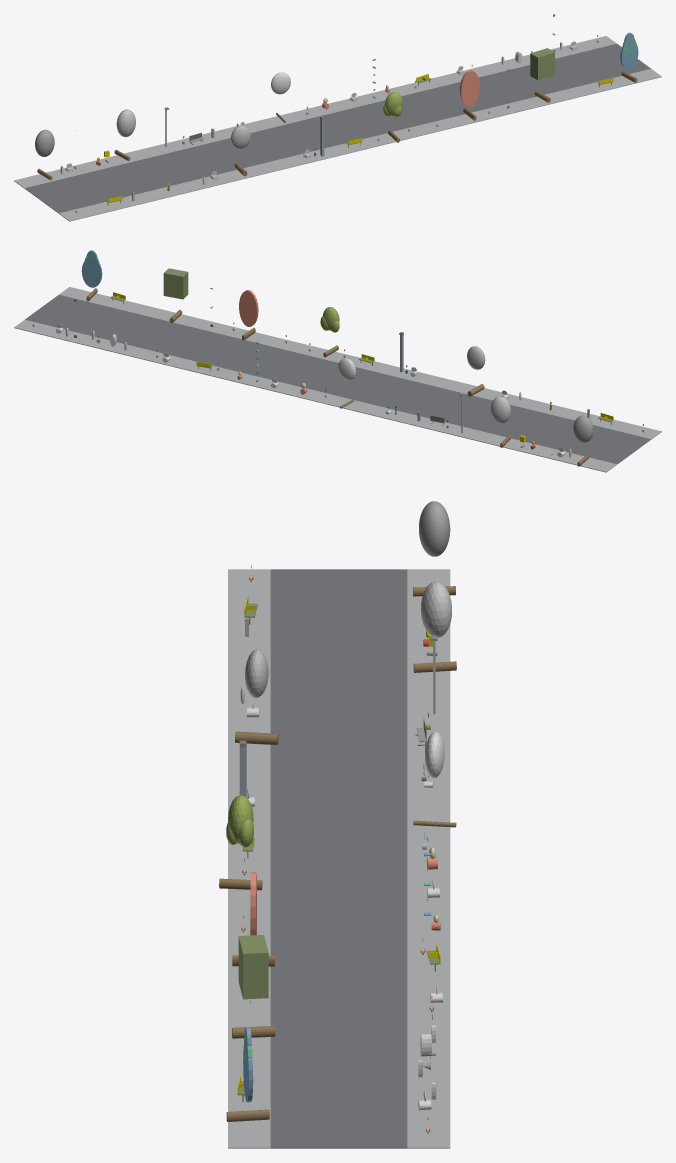
The picture shows the model from 3 angles, top to bottom: view 1: azimuth 30°, elevation 25°; view 2: azimuth 150°, elevation 25°; view 3: azimuth 270°, elevation 25°; orthographic projection. The views are drawn at different scales.
Parts seen in each view (by area): view 1: road_slab, sidewalk_left, sidewalk_right, inst_0024, inst_0023, inst_0025, inst_0019, inst_0018, inst_0020, inst_0022, inst_0021; view 2: road_slab, sidewalk_right, sidewalk_left, inst_0024, inst_0023, inst_0025, inst_0019, inst_0018, inst_0022, inst_0020, inst_0021; view 3: road_slab, sidewalk_right, sidewalk_left, inst_0024, inst_0019, inst_0018, inst_0022, inst_0020, inst_0025, inst_0021.
Boxes of the visible parts, left/top/right/bottom form: road_slab: left=25, top=44, right=650, bottom=213; sidewalk_left: left=59, top=69, right=661, bottom=221; sidewalk_right: left=14, top=36, right=616, bottom=188; inst_0024: left=530, top=48, right=554, bottom=102; inst_0023: left=460, top=70, right=479, bottom=120; inst_0025: left=620, top=32, right=638, bottom=82; inst_0019: left=114, top=109, right=135, bottom=161; inst_0018: left=35, top=129, right=54, bottom=180; inst_0020: left=231, top=125, right=250, bottom=176; inst_0022: left=383, top=92, right=402, bottom=142; inst_0021: left=271, top=72, right=290, bottom=122; road_slab: left=25, top=294, right=651, bottom=464; sidewalk_right: left=14, top=319, right=616, bottom=472; sidewalk_left: left=59, top=287, right=661, bottom=439; inst_0024: left=163, top=268, right=188, bottom=322; inst_0023: left=239, top=290, right=258, bottom=340; inst_0025: left=81, top=250, right=102, bottom=301; inst_0019: left=490, top=396, right=511, bottom=447; inst_0018: left=573, top=415, right=593, bottom=466; inst_0022: left=320, top=307, right=339, bottom=357; inst_0020: left=467, top=346, right=485, bottom=396; inst_0021: left=338, top=358, right=355, bottom=408; road_slab: left=270, top=569, right=407, bottom=1148; sidewalk_right: left=407, top=569, right=450, bottom=1148; sidewalk_left: left=228, top=569, right=270, bottom=1148; inst_0024: left=232, top=935, right=275, bottom=1038; inst_0019: left=413, top=581, right=456, bottom=672; inst_0018: left=413, top=501, right=455, bottom=596; inst_0022: left=219, top=795, right=262, bottom=890; inst_0020: left=235, top=649, right=278, bottom=745; inst_0025: left=226, top=1027, right=269, bottom=1121; inst_0021: left=413, top=731, right=456, bottom=827.
Bounding box in the file's own units: 80 × 6.08 × 13.9.
